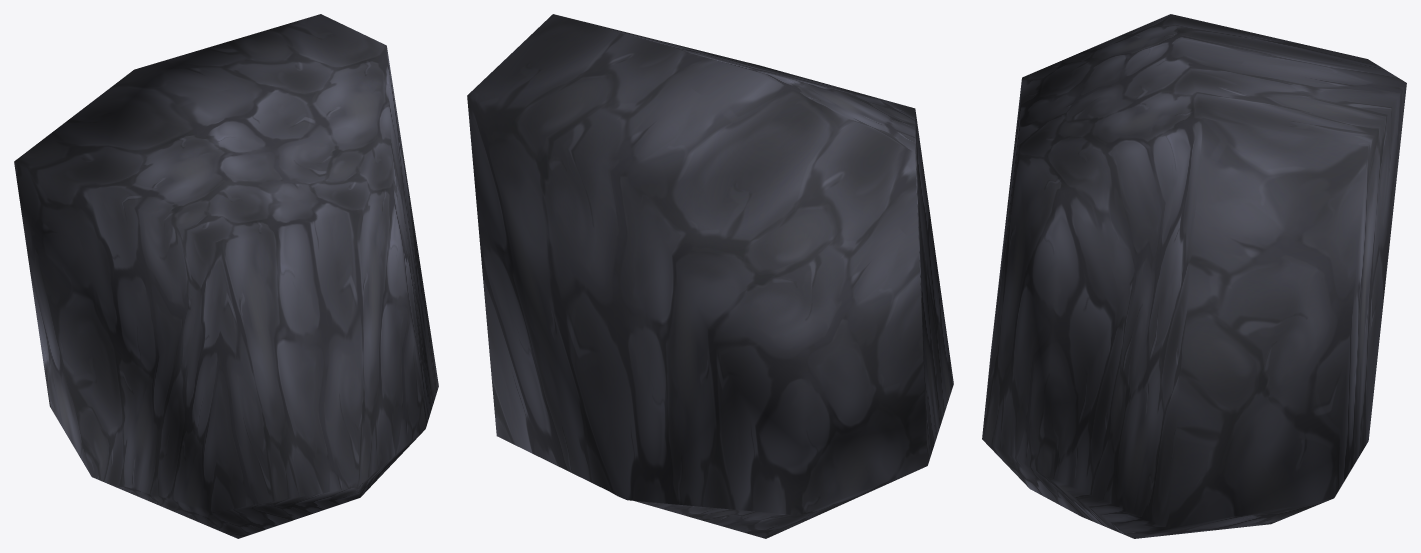
Rendered from Rock02.fbx.
The picture shows the model from 3 angles, left to right: view 1: azimuth 30°, elevation 25°; view 2: azimuth 150°, elevation 25°; view 3: azimuth 270°, elevation 25°; orthographic projection. The views are drawn at different scales.
Visible parts, largest first — view 1: Rock02; view 2: Rock02; view 3: Rock02.
Boxes of the visible parts, <box> form: Rock02: <box>14,14,438,538</box>; Rock02: <box>467,14,953,538</box>; Rock02: <box>982,14,1406,538</box>.
Bounding box in the file's own units: 94.64 × 95.78 × 86.36.
